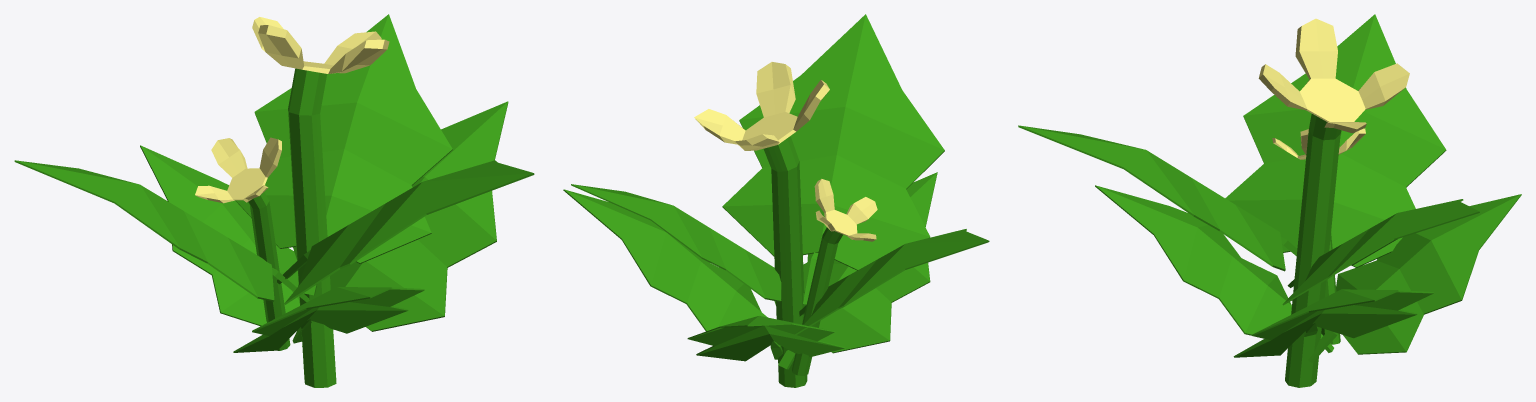
File: WatermelonPlant_Stage01.fbx
3 views of the same model, side by side, from view 1: azimuth 30°, elevation 25°; view 2: azimuth 150°, elevation 25°; view 3: azimuth 270°, elevation 25° (orthographic). The views are drawn at different scales.
Visible parts, largest first — view 1: WatermelonPlant_Stage01; view 2: WatermelonPlant_Stage01; view 3: WatermelonPlant_Stage01.
Boxes of the visible parts, x1,y1,x2,y2 form: WatermelonPlant_Stage01: (14, 14, 534, 387); WatermelonPlant_Stage01: (563, 14, 989, 387); WatermelonPlant_Stage01: (1018, 14, 1521, 387).
Bounding box in the file's own units: 216 × 151 × 201.
